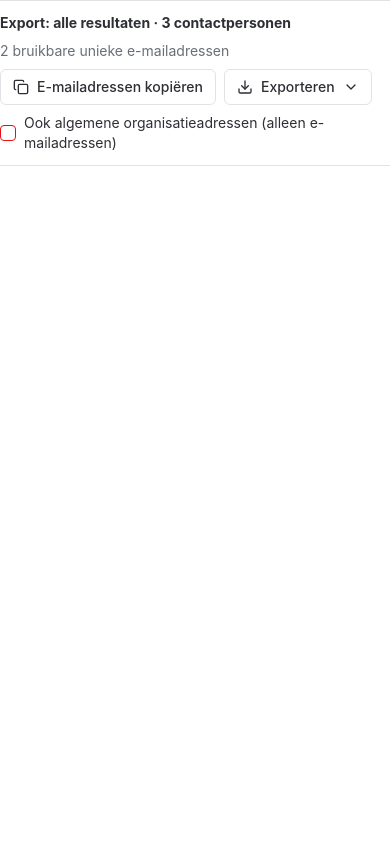
Test case: local address-book export › clipboard failure offers selectable text and changing scope removes old addresses
Later steps or results of the test are not shown.
Click the button "E-mailadressen kopiëren" at coordinates (108, 87), box [0,69,216,105]
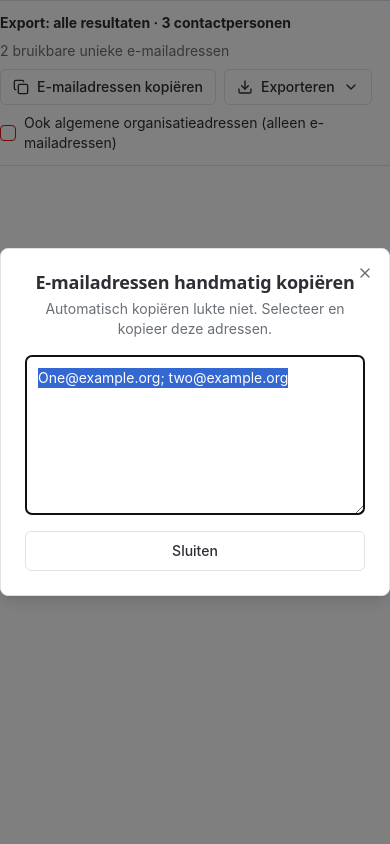
Expected: the text box named "E-mailadressen om te kopiëren" holds "One@example.org; two@example.org", [25,355,365,515]
